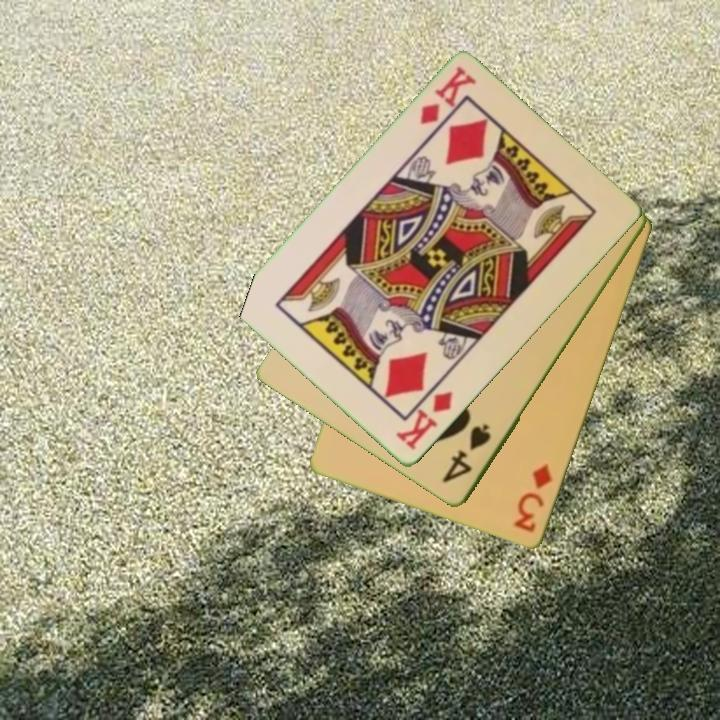3d: (511, 460, 556, 537)
4s: (439, 421, 494, 487)
Kd: (392, 388, 456, 454), (416, 63, 479, 128)
